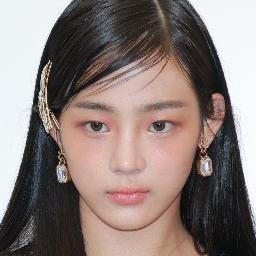face: (66, 70, 196, 228)
